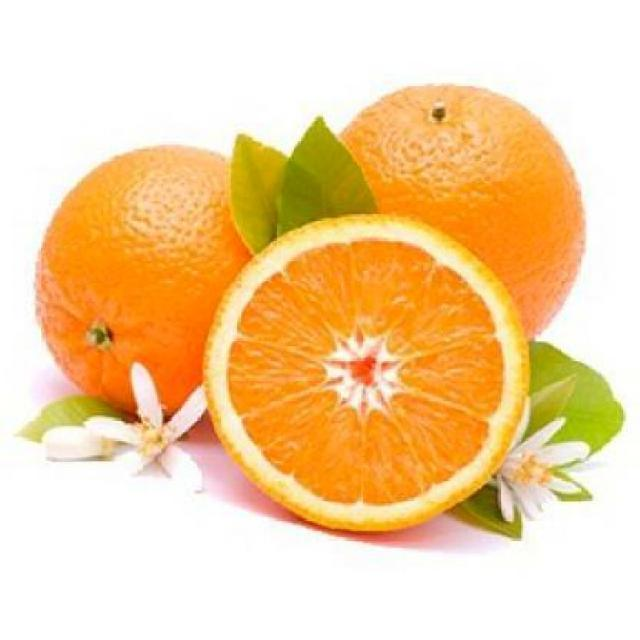Jeruk Sudah Matang: (302, 82, 582, 364), (38, 143, 292, 426)
